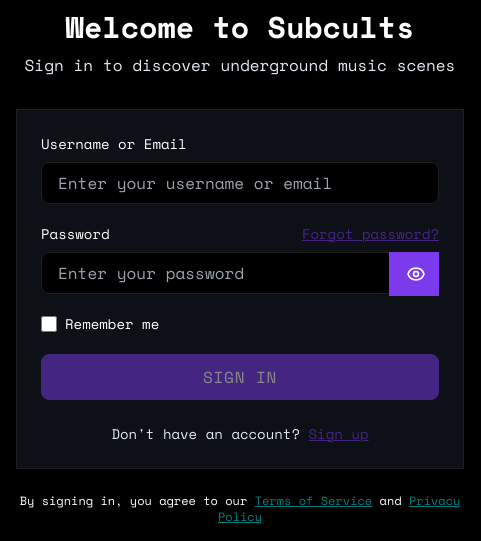
LoginPage › Form Interactions › enables submit button when form is filled
The width and height of the screenshot is (481, 541).
In the field labelled "Username or Email": (240, 183) top-left (41, 162), bottom-right (439, 204), type "testuser"
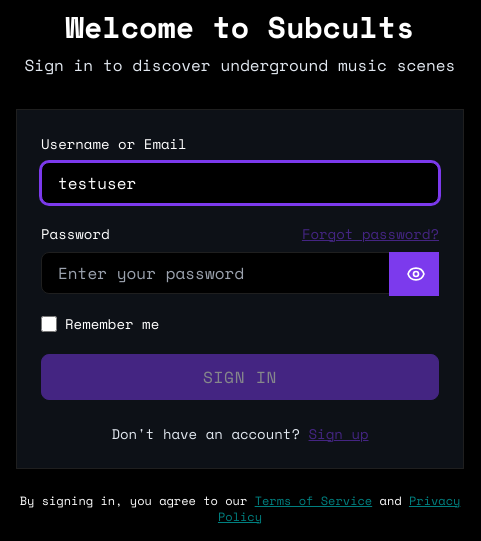
In the password field labelled "Password": (240, 273) top-left (41, 252), bottom-right (439, 294), type "password123"
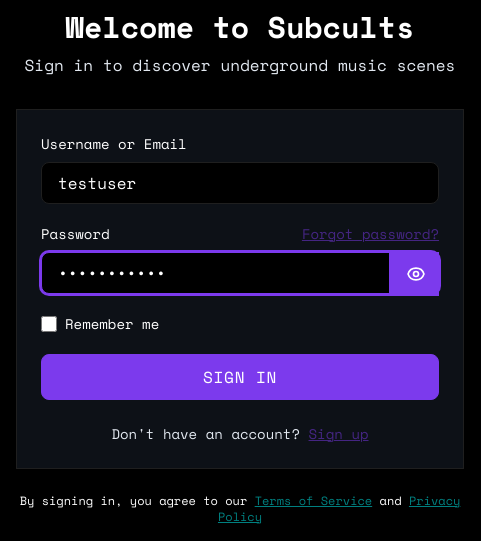
Now the button "Sign in" is enabled, box top-left (41, 354), bottom-right (439, 400)
